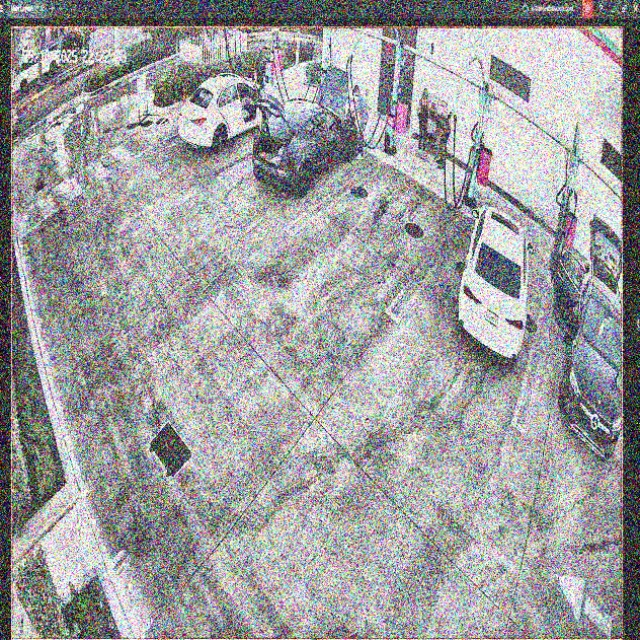Car: (256, 66, 358, 191), (455, 206, 533, 366), (179, 74, 283, 151)
